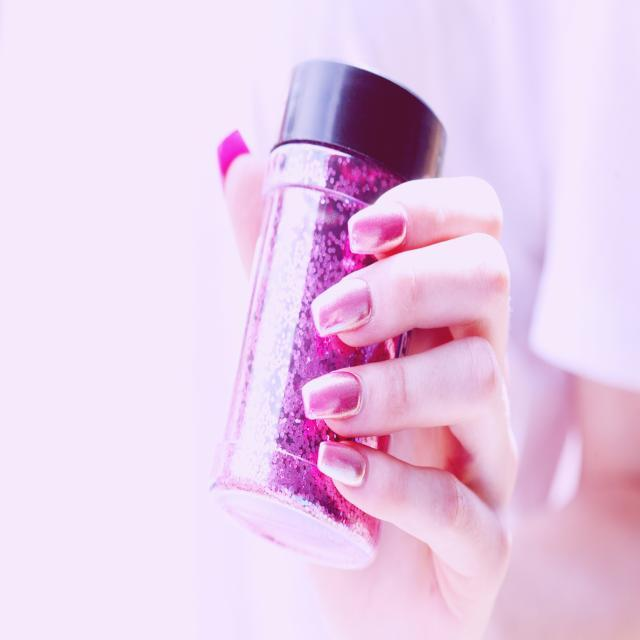Fingernail: (311, 279, 369, 337), (348, 205, 406, 256), (302, 372, 361, 420), (319, 442, 367, 489)
